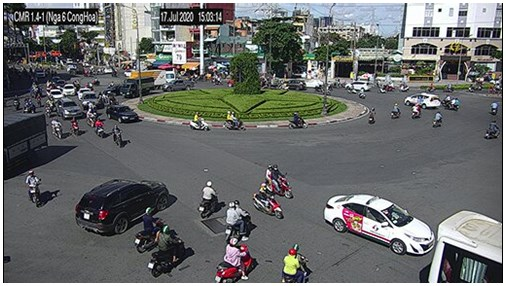xe_ban_tai: (163, 80, 194, 91)
xe_hoi: (324, 194, 435, 256), (75, 179, 170, 235), (106, 105, 140, 124), (405, 93, 441, 109), (58, 98, 82, 117), (345, 80, 372, 92), (81, 91, 98, 107), (283, 79, 305, 89), (49, 89, 63, 101), (63, 83, 75, 96)
xe_may: (149, 225, 185, 278), (214, 237, 255, 282), (134, 206, 165, 252), (226, 199, 252, 247), (254, 182, 284, 221), (281, 243, 310, 283), (266, 163, 292, 198), (198, 180, 219, 220), (26, 170, 42, 207), (224, 110, 244, 131), (287, 112, 308, 130), (191, 111, 208, 132), (485, 120, 500, 139), (51, 117, 62, 140), (112, 125, 123, 147), (69, 116, 80, 137), (85, 104, 95, 127), (468, 79, 484, 92), (95, 117, 104, 139), (445, 97, 458, 112), (390, 102, 401, 119), (431, 111, 441, 128), (368, 106, 376, 125), (12, 93, 19, 112), (398, 82, 409, 93), (411, 103, 419, 118), (490, 100, 498, 115), (425, 83, 437, 93), (357, 87, 366, 100), (44, 102, 52, 116), (443, 83, 455, 92), (36, 93, 41, 108)
xe_tai: (3, 113, 48, 177), (120, 78, 154, 97)
